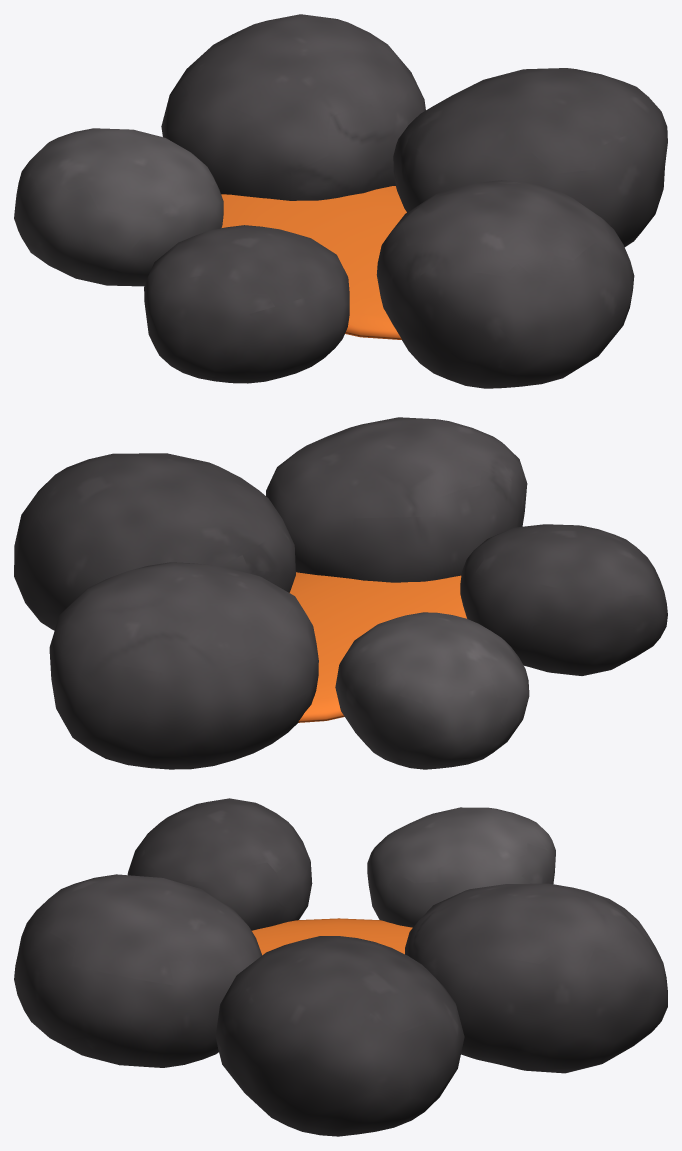
Rendered from lava_crack.glb.
3 views of the same model, one above another, from view 1: azimuth 30°, elevation 25°; view 2: azimuth 150°, elevation 25°; view 3: azimuth 270°, elevation 25° (orthographic). The views are drawn at different scales.
Parts seen in each view (by area): view 1: LavaCrack; view 2: LavaCrack; view 3: LavaCrack.
Boxes of the visible parts, box(x1,y1,x2,y2) form: LavaCrack: box(14, 14, 667, 388); LavaCrack: box(14, 417, 667, 769); LavaCrack: box(14, 798, 667, 1136).
Size of the model in its own units: 1.63 by 0.4816 by 1.74.
1 material, 1 textured.
